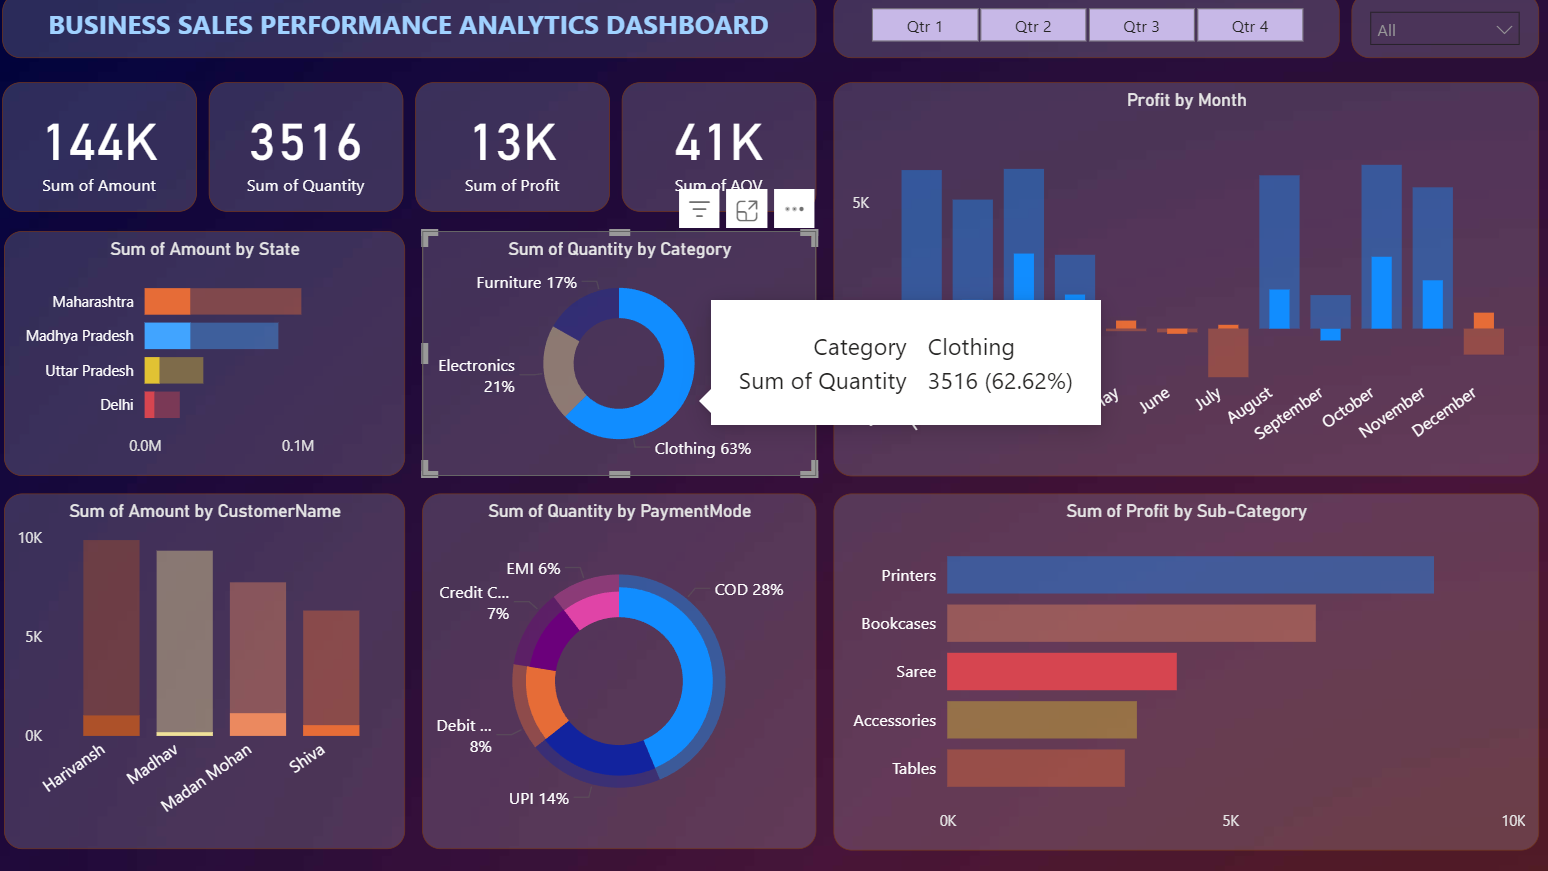

What the dashboard file says about the page in this screenshot:
{"tool":"powerbi","page":{"name":"Page 1","canvas":[1280,720],"ordinal":0},"visuals":[{"type":"textbox","box":[10,0,664.3,52.9],"z":0},{"type":"columnChart","title":"Profit by Month","fields":{"Y":["Sum(Details.Profit)"],"Category":["Orders.Order Date.Variation.Date Hierarchy.Month"]},"box":[688.6,72.9,575.7,321.4],"z":1000},{"type":"barChart","fields":{"Category":["Details.Sub-Category"],"Y":["Sum(Details.Profit)"]},"box":[688.6,408.6,575.7,291.4],"z":2000},{"type":"donutChart","fields":{"Category":["Details.Category"],"Y":["Sum(Details.Quantity)"]},"box":[352.9,194.3,321.4,200],"z":3000},{"type":"donutChart","fields":{"Y":["Sum(Details.Quantity)"],"Category":["Details.PaymentMode"]},"box":[352.9,408.6,321.4,290],"z":4000},{"type":"card","fields":{"Values":["Sum(Details.Amount)"]},"box":[10,72.9,158.6,105.7],"z":5000},{"type":"card","fields":{"Values":["Sum(Details.Quantity)"]},"box":[178.6,72.9,158.6,105.7],"z":6000},{"type":"card","fields":{"Values":["Sum(Details.Profit)"]},"box":[347.1,72.9,158.6,105.7],"z":7000},{"type":"card","fields":{"Values":["Sum(Details.AOV)"]},"box":[515.7,72.9,158.6,105.7],"z":8000},{"type":"barChart","fields":{"Category":["Orders.State"],"Y":["Sum(Details.Amount)"]},"box":[11.4,194.3,327.1,200],"z":9000},{"type":"columnChart","fields":{"Category":["Orders.CustomerName"],"Y":["Sum(Details.Amount)"]},"box":[11.4,408.6,327.1,290],"z":10000},{"type":"slicer","fields":{"Values":["Orders.Order Date.Variation.Date Hierarchy.Quarter"]},"box":[688.6,0,412.9,52.9],"z":11000},{"type":"slicer","fields":{"Values":["Orders.State"]},"box":[1111.4,0,152.9,52.9],"z":12000}]}

Visuals, with their boxes in screenshot pixels (x1, y1, x2, y2), scaled from the page's 1280x720 canvas onto the 1548x871 screenshot:
textbox: [12,0,815,64]
"Profit by Month" columnChart: [833,88,1529,477]
barChart - Details.Sub-Category x Sum(Details.Profit): [833,494,1529,847]
donutChart - Details.Category x Sum(Details.Quantity): [427,235,815,477]
donutChart - Sum(Details.Quantity) x Details.PaymentMode: [427,494,815,845]
card - Sum(Details.Amount): [12,88,204,216]
card - Sum(Details.Quantity): [216,88,408,216]
card - Sum(Details.Profit): [420,88,612,216]
card - Sum(Details.AOV): [624,88,815,216]
barChart - Orders.State x Sum(Details.Amount): [14,235,409,477]
columnChart - Orders.CustomerName x Sum(Details.Amount): [14,494,409,845]
slicer - Orders.Order Date.Variation.Date Hierarchy.Quarter: [833,0,1332,64]
slicer - Orders.State: [1344,0,1529,64]
